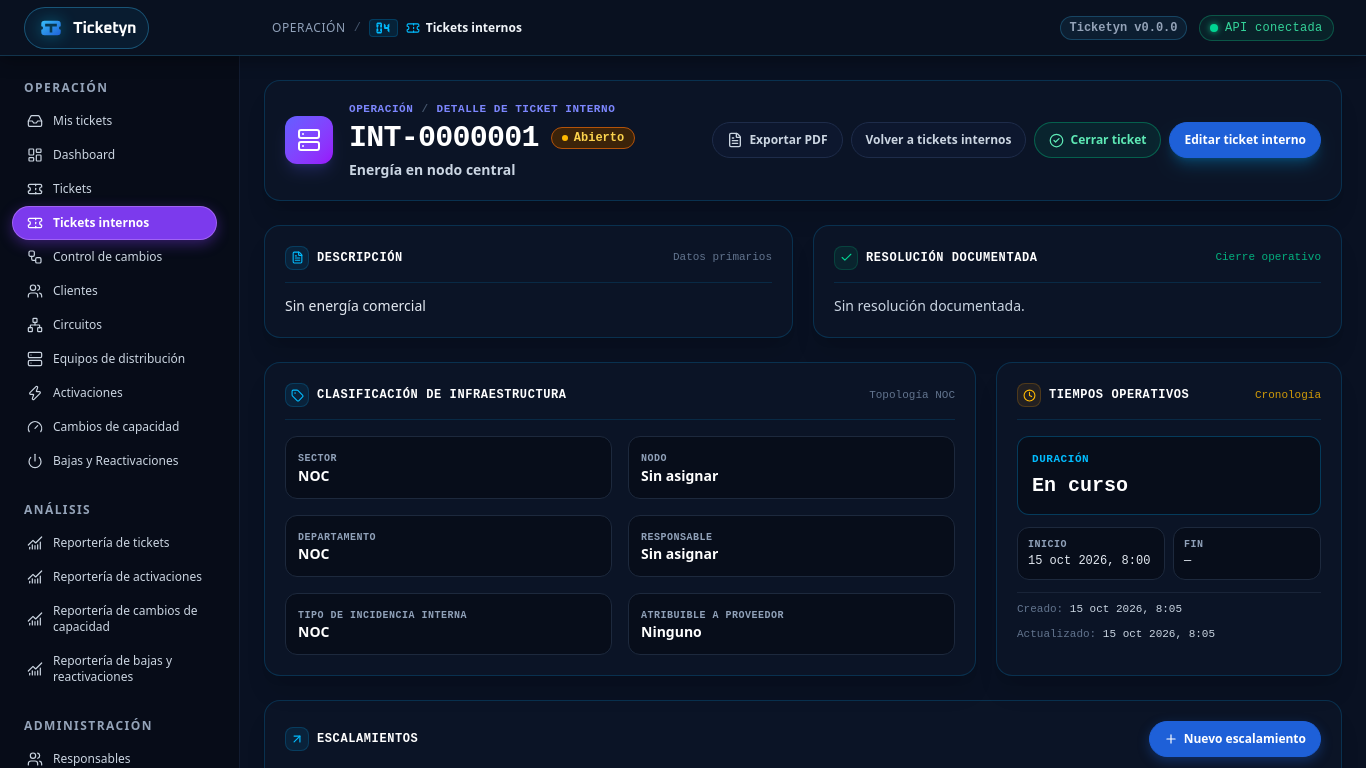
Test case: Tickets internos › cierra desde cabecera sin campo de cliente y conserva la edición
What coordinates should you click on to do the following:
click the button "Cerrar ticket"
I would click on:
 (1098, 140)
Its box is [1034, 122, 1162, 158].
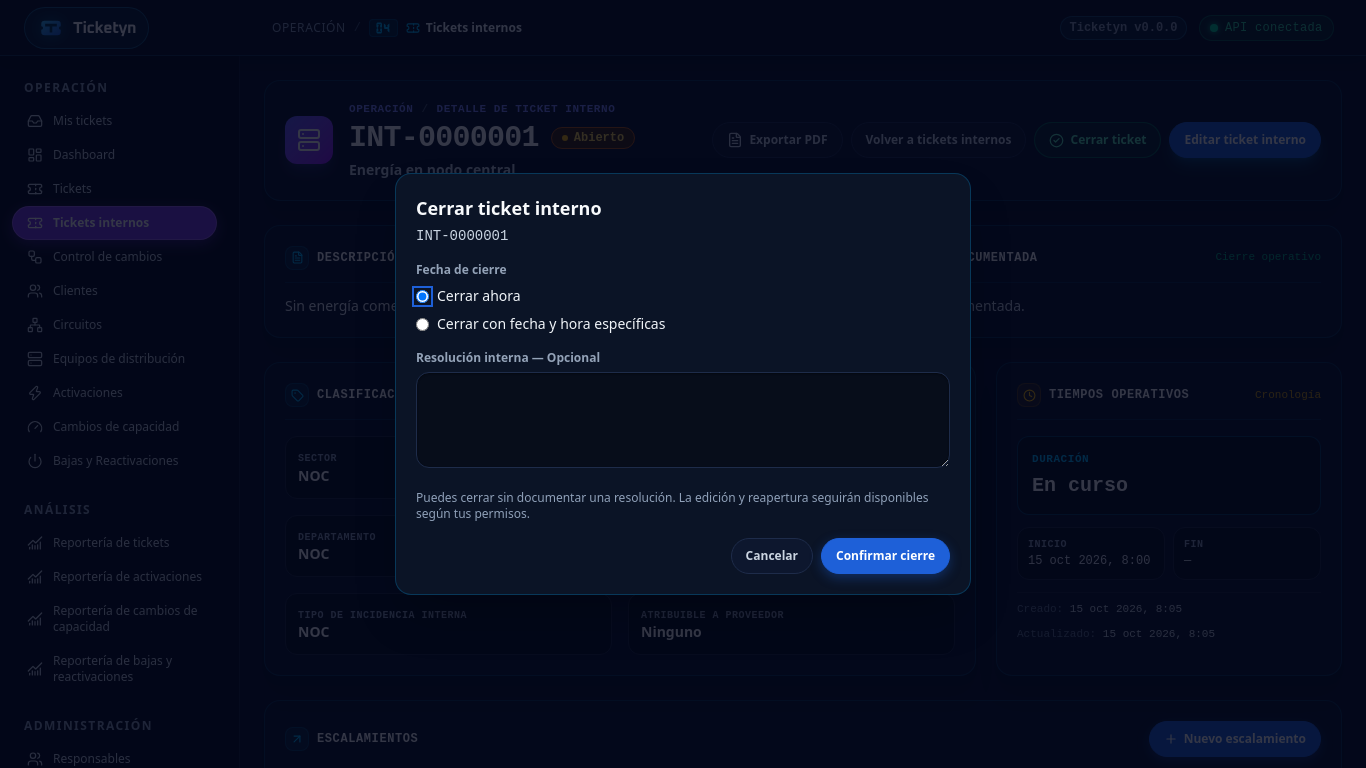
Expected: the dialog "Cerrar ticket interno" is shown, [395, 173, 971, 595]
What coordinates should you click on to do the following:
click the button "Confirmar cierre"
I would click on:
 (886, 556)
Its box is [821, 538, 950, 574].
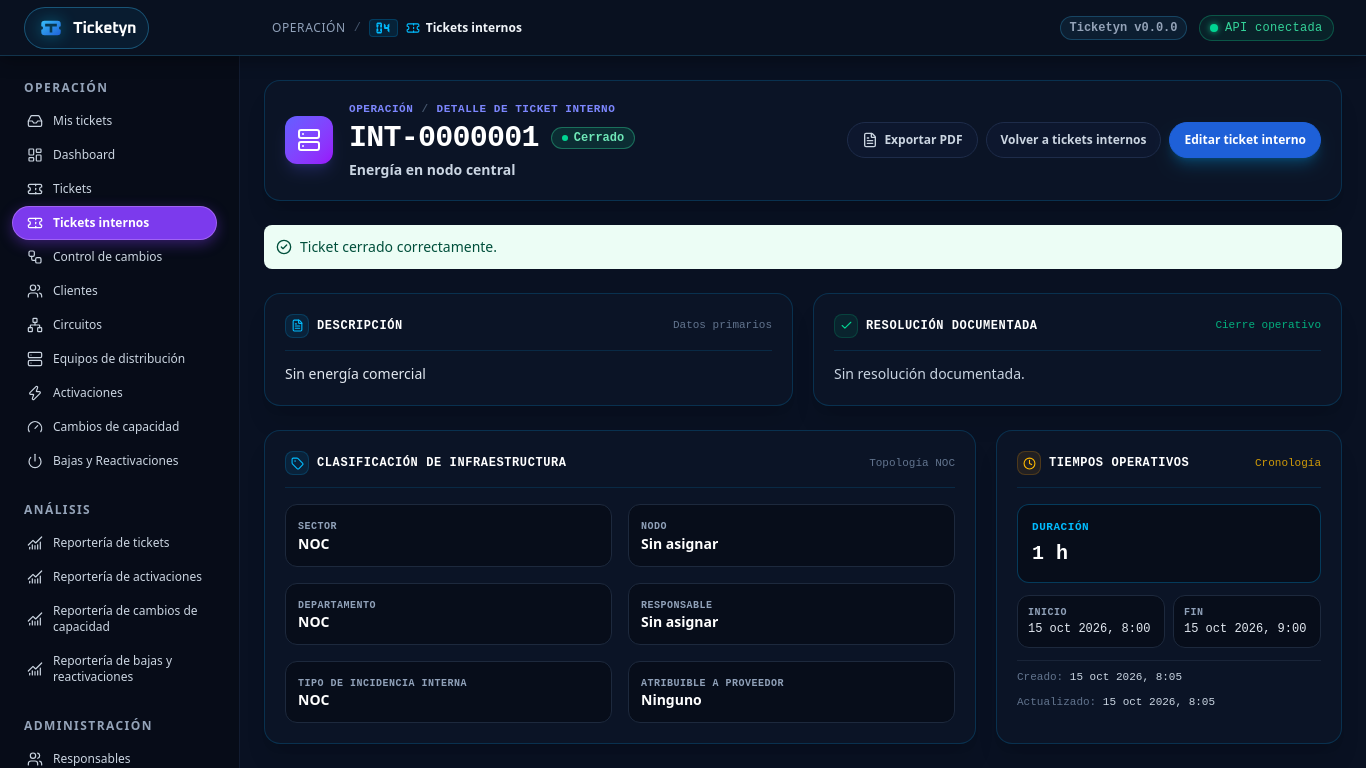
Expected: the text "Ticket cerrado correctamente." is shown, [300, 236, 497, 256]
Expected: the text "Cerrado" is shown, [551, 126, 635, 148]
Expected: the button "Cerrar ticket" is gone
